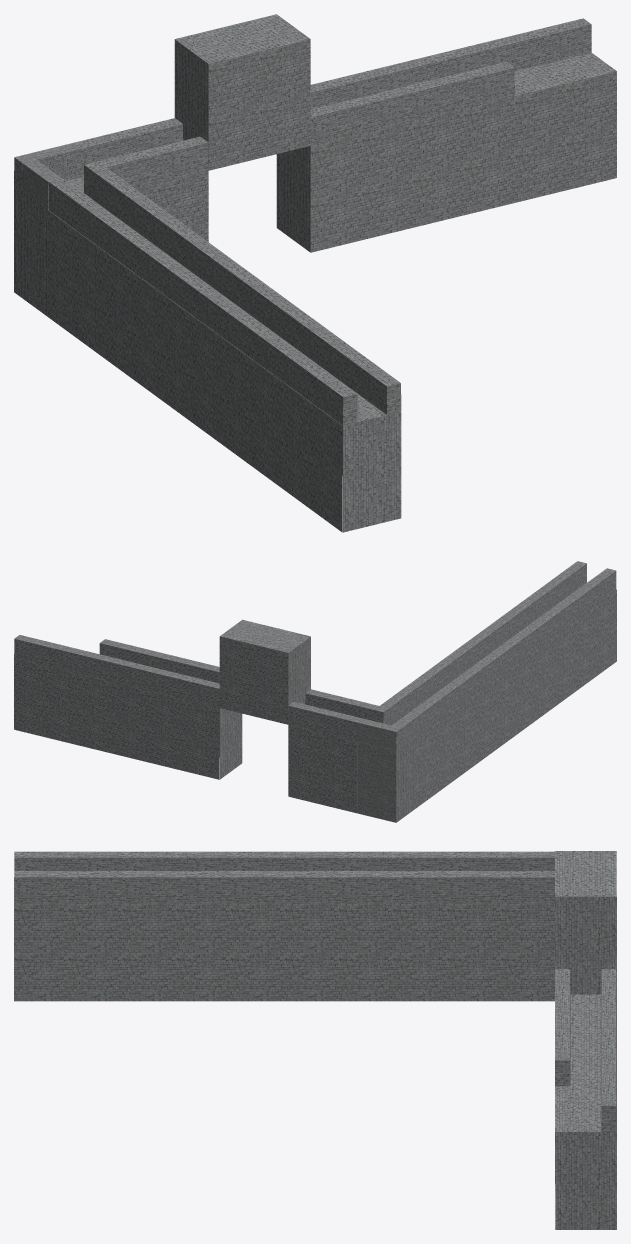
Rendered from wall.fbx.
3 renders of one model, top to bottom at view 1: azimuth 30°, elevation 25°; view 2: azimuth 150°, elevation 25°; view 3: azimuth 270°, elevation 25°, orthographic. The views are drawn at different scales.
Parts seen in each view (by area): view 1: Mesh62; view 2: Mesh62; view 3: Mesh62.
Part boxes in pixels (<box>): Mesh62: <box>14,14,616,532</box>; Mesh62: <box>14,561,616,822</box>; Mesh62: <box>14,851,616,1229</box>.
Bounding box in the file's own units: 223 × 80.11 × 223.
Materials: 1 (1 with a texture image).
